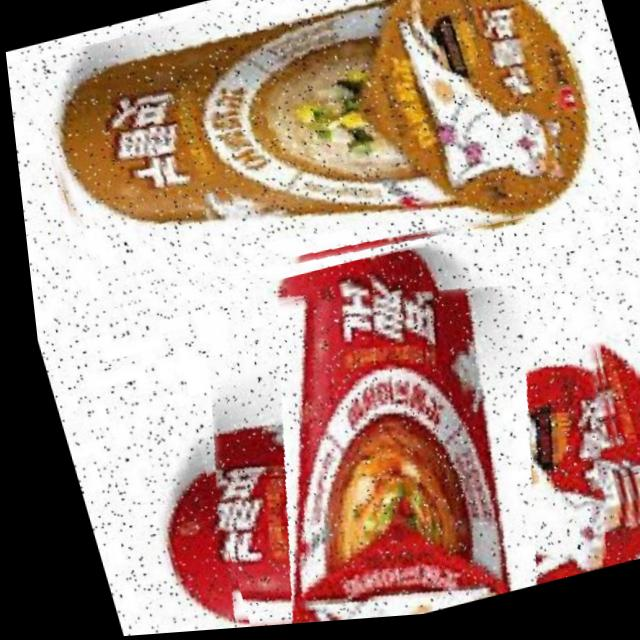Miscellaneous: (5, 0, 627, 339), (148, 232, 640, 632)
